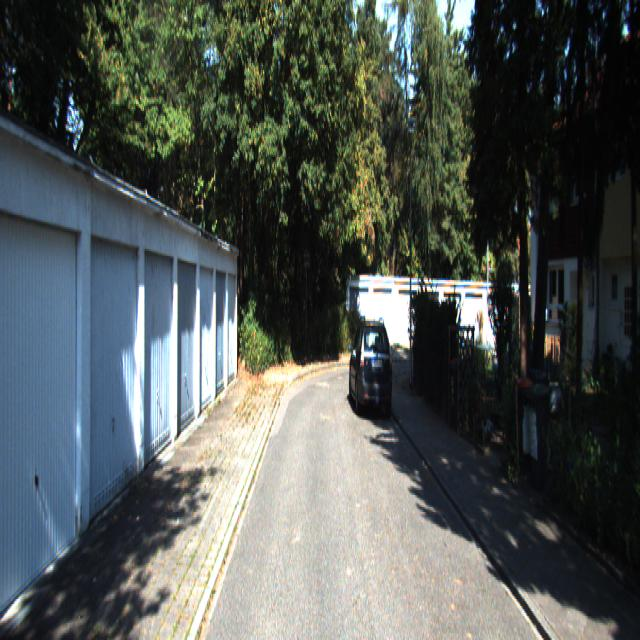Car: (349, 315, 393, 415)
